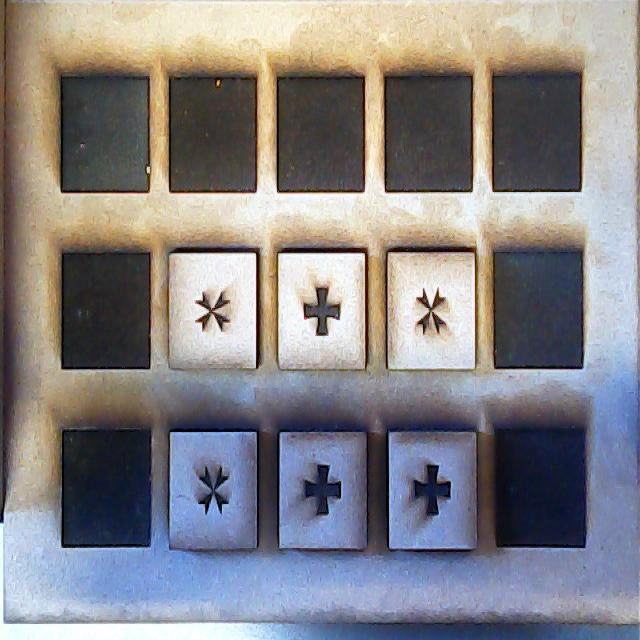maltese: (169, 251, 256, 369), (388, 248, 473, 368), (170, 433, 259, 546)
nothing: (490, 417, 593, 555), (53, 62, 155, 196)
temple: (276, 252, 370, 372), (277, 431, 368, 553), (391, 430, 478, 552)
